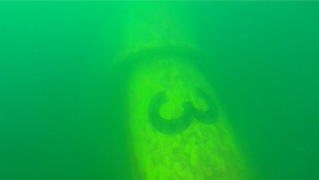3: (148, 85, 218, 134)
pipe: (107, 1, 251, 179)
